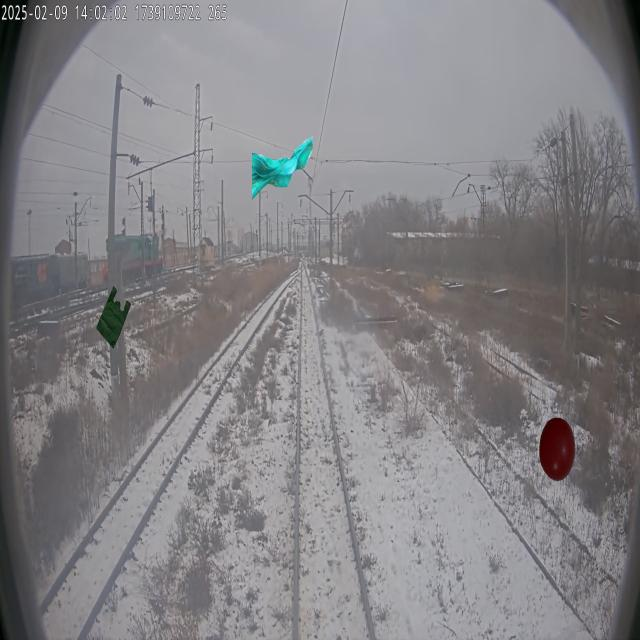balloon: (539, 417, 575, 481)
floating object: (251, 136, 313, 200)
plastic bag: (96, 286, 131, 350)
